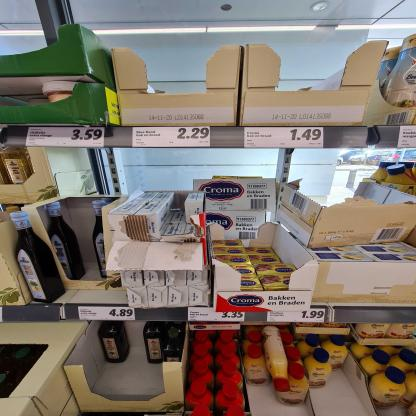prtg: (134, 127, 212, 149), (245, 128, 324, 149), (27, 128, 106, 148), (189, 308, 246, 323), (79, 307, 137, 321), (268, 310, 326, 324), (398, 126, 416, 149)
